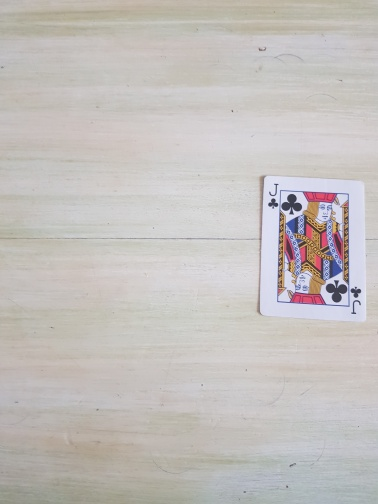jack: (258, 175, 368, 323)
